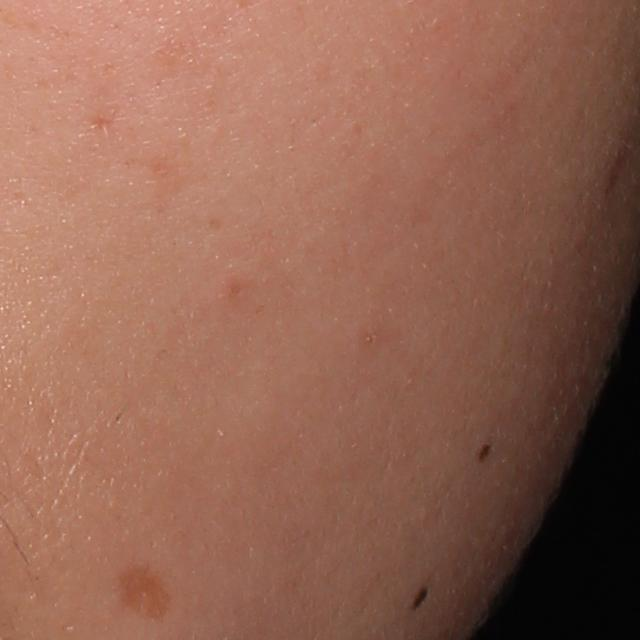nevus: (409, 584, 430, 614), (478, 442, 492, 466)
